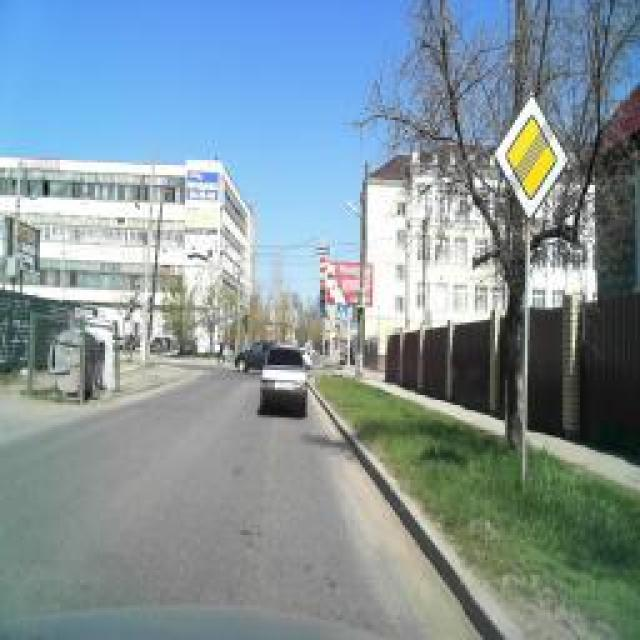sign: (316, 256, 329, 274)
